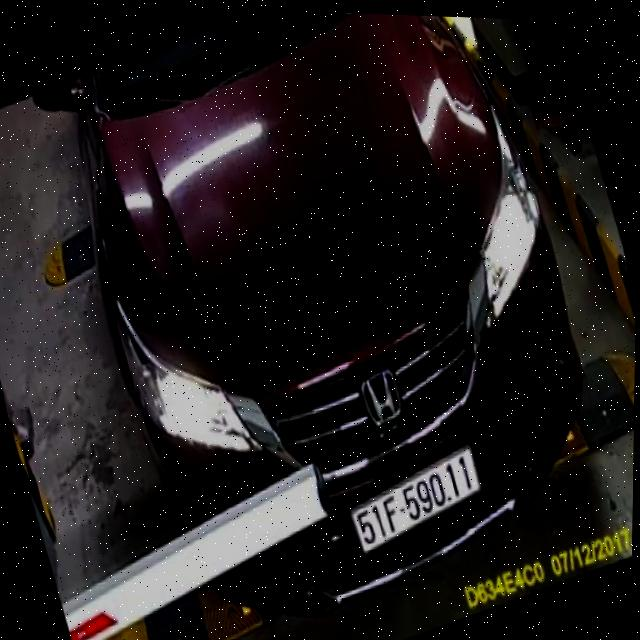car: (10, 1, 638, 640)
plate: (339, 438, 499, 566)
